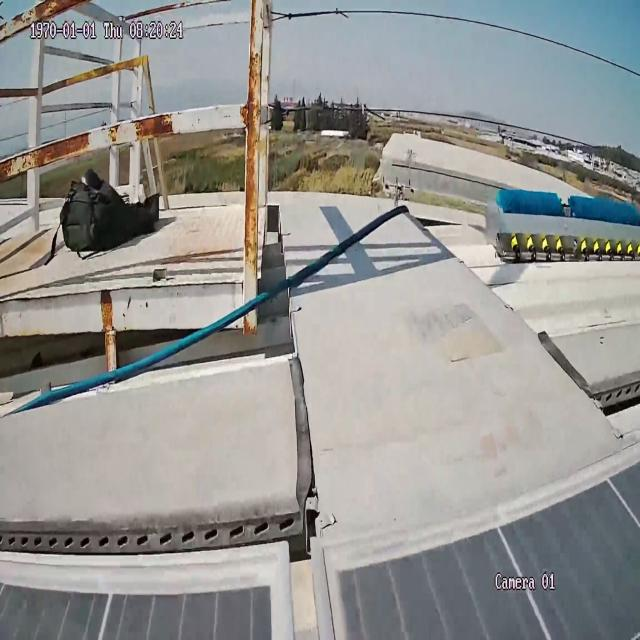interior panel: (232, 525, 426, 640)
outher panel: (0, 128, 640, 555)
